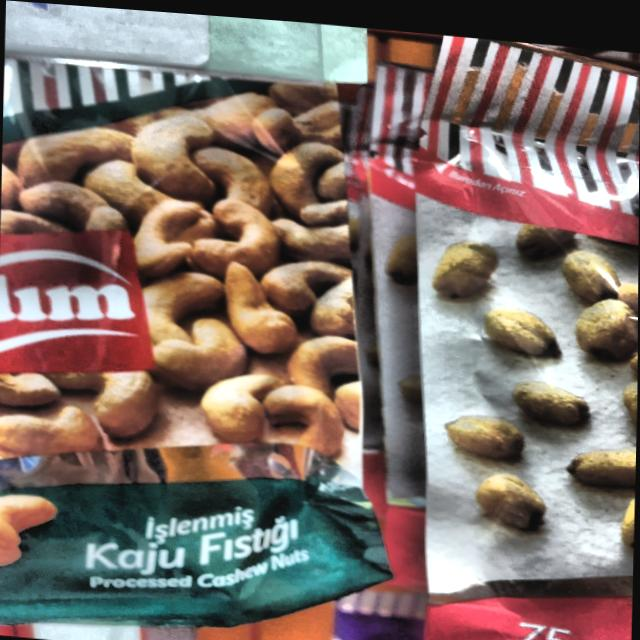Plastic: (0, 37, 393, 632), (411, 35, 640, 640)
